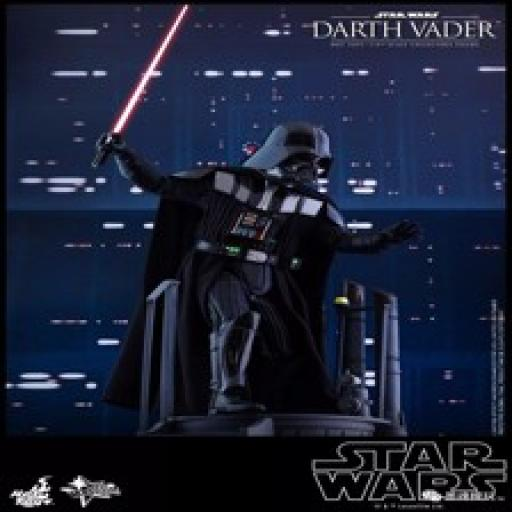human: (90, 112, 430, 416)
sith saber: (92, 2, 190, 170)
